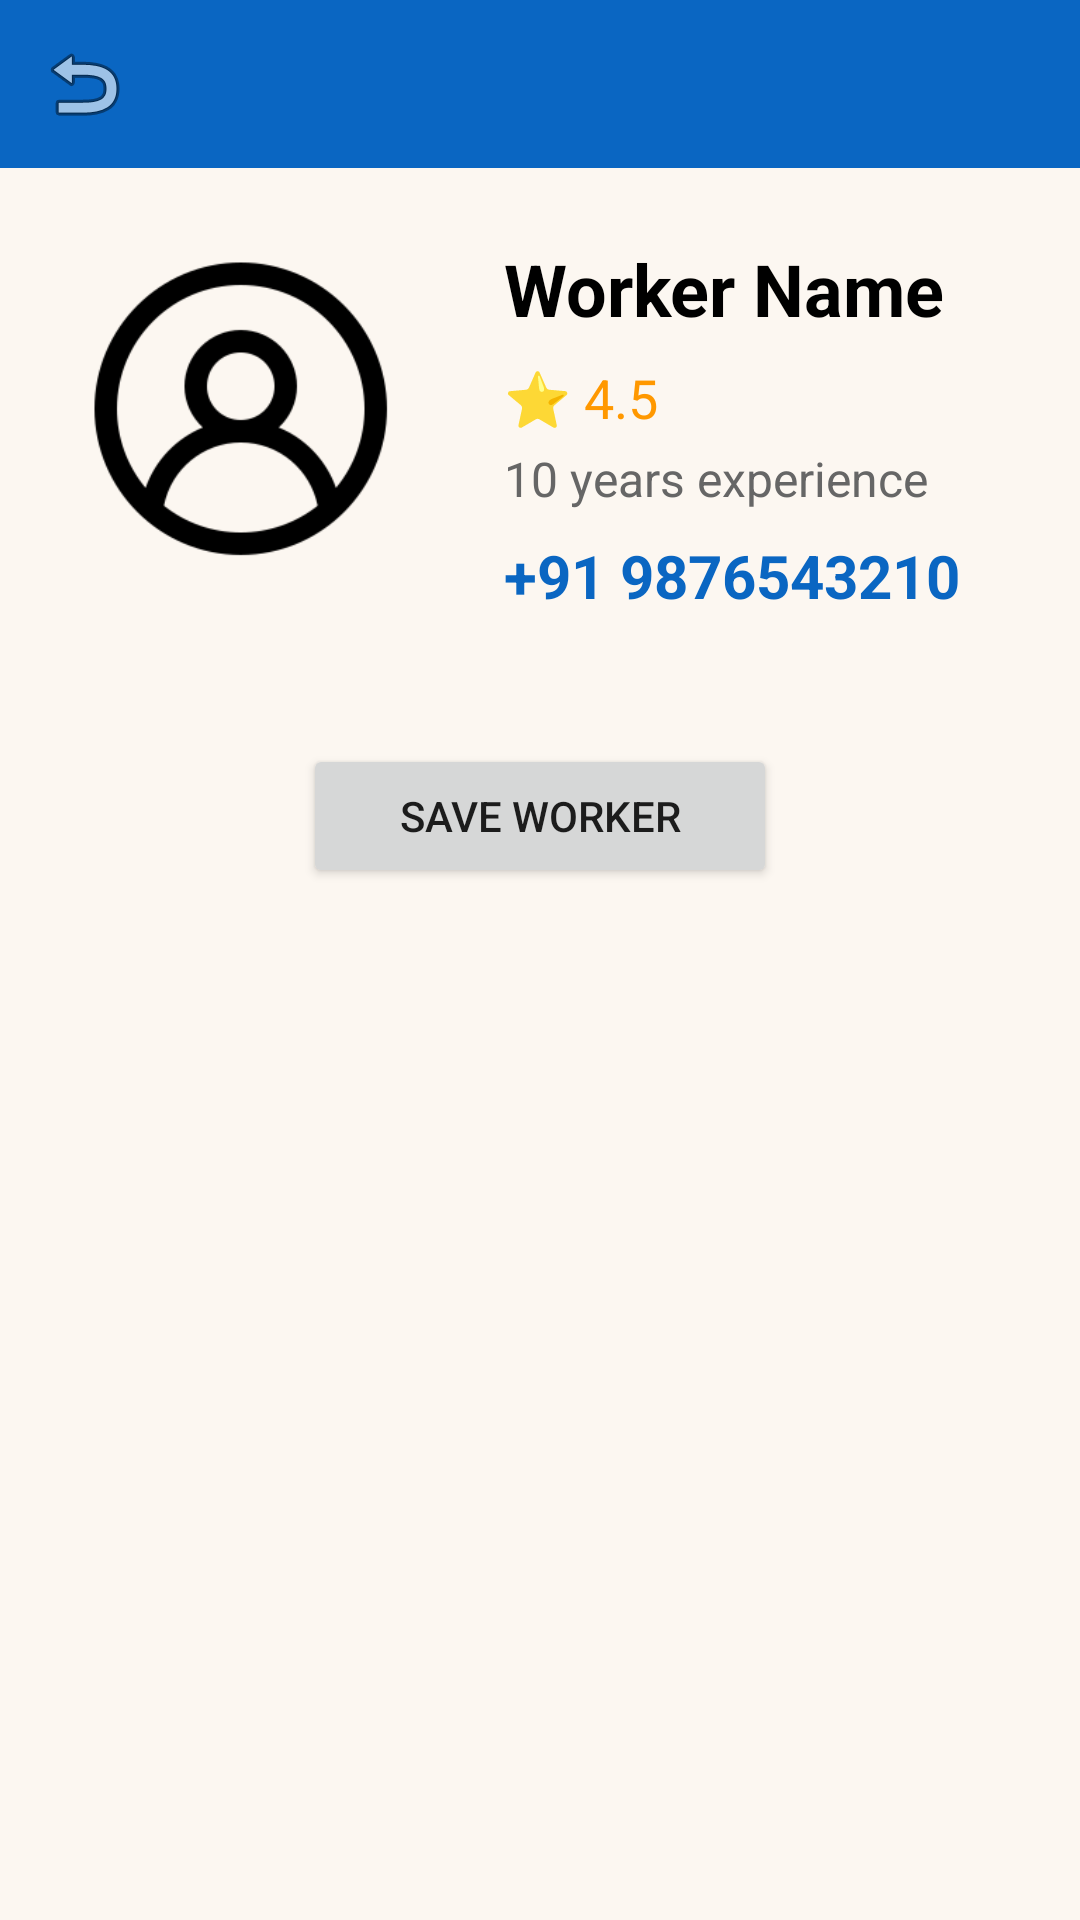

Named icons in this screenshot (1080x1920) and their centers, (x=x, y=y):
profile: (x=241, y=409)
